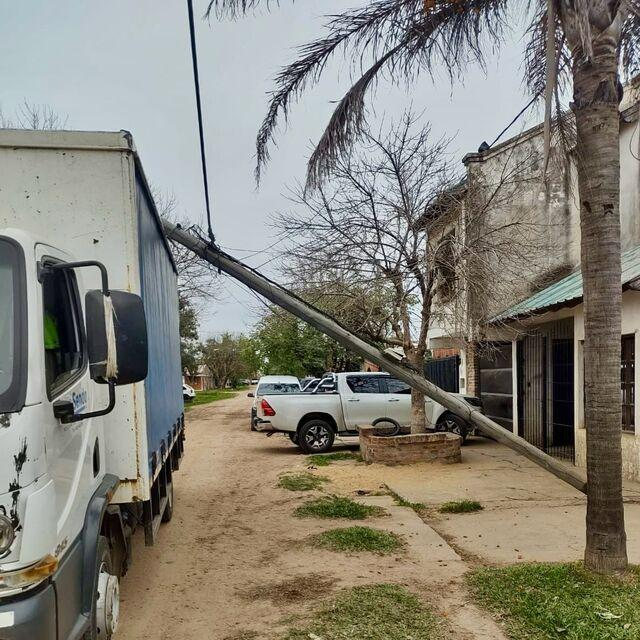Inclined Pole: (154, 213, 588, 497)
